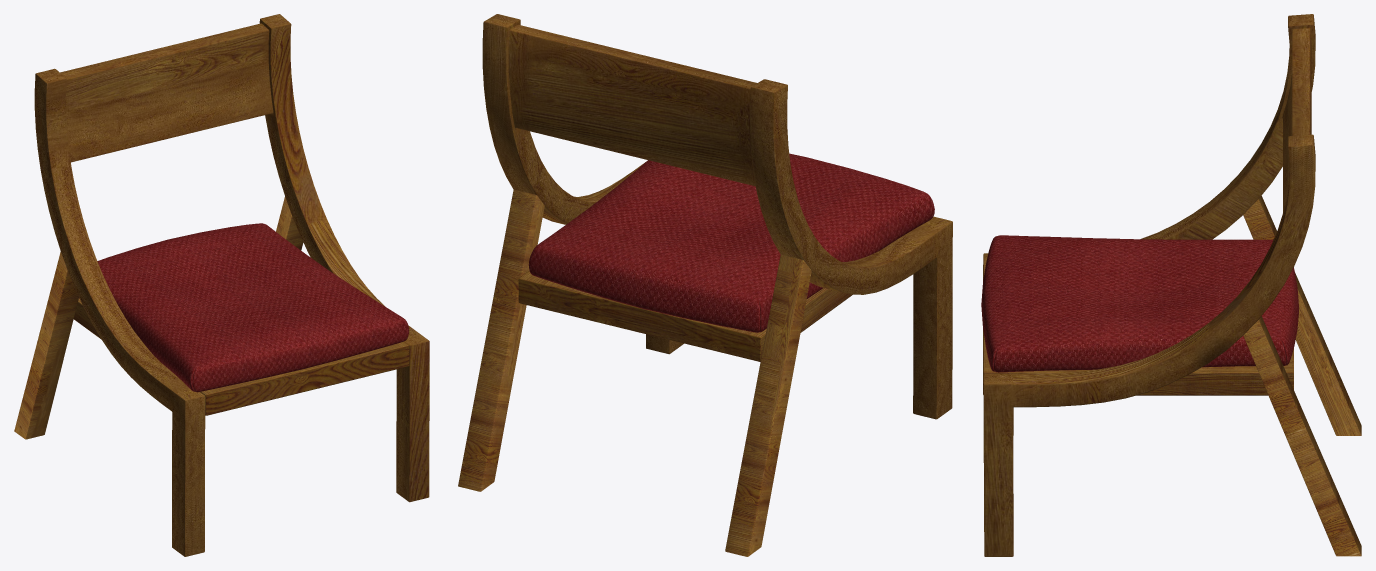
The model's file is chair.obj.
3 renders of one model, left to right at view 1: azimuth 30°, elevation 25°; view 2: azimuth 150°, elevation 25°; view 3: azimuth 270°, elevation 25°, orthographic. The views are drawn at different scales.
Parts seen in each view (by area): view 1: frame, seat, legs, base; view 2: frame, seat, legs, base; view 3: seat, frame, legs, base.
Part boxes in pixels (left/top/right/bottom): frame: left=34, top=14, right=429, bottom=556; seat: left=79, top=223, right=409, bottom=392; legs: left=14, top=197, right=303, bottom=439; base: left=73, top=298, right=409, bottom=415; frame: left=482, top=14, right=952, bottom=419; seat: left=528, top=153, right=934, bottom=332; legs: left=458, top=189, right=811, bottom=556; base: left=518, top=270, right=852, bottom=361; seat: left=981, top=235, right=1298, bottom=372; frame: left=983, top=14, right=1315, bottom=556; legs: left=1243, top=196, right=1361, bottom=556; base: left=983, top=263, right=1293, bottom=395.
Bounding box in the file's own units: 0.4994 × 0.7303 × 0.6104.
